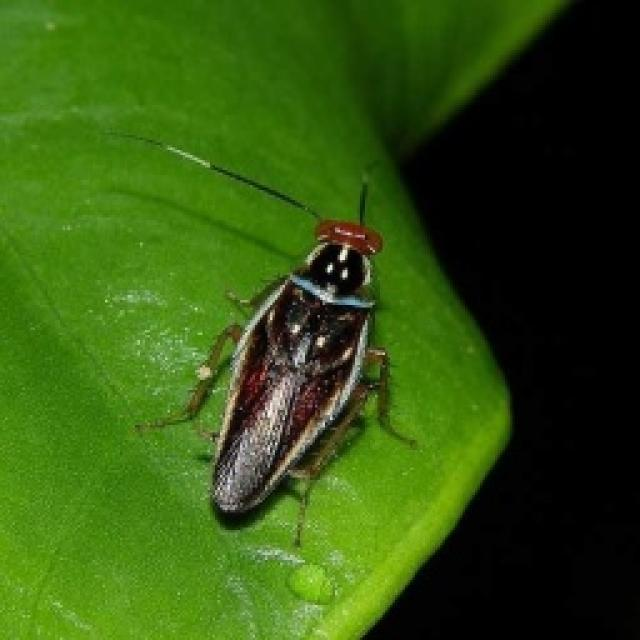cockroach: (107, 125, 425, 551)
